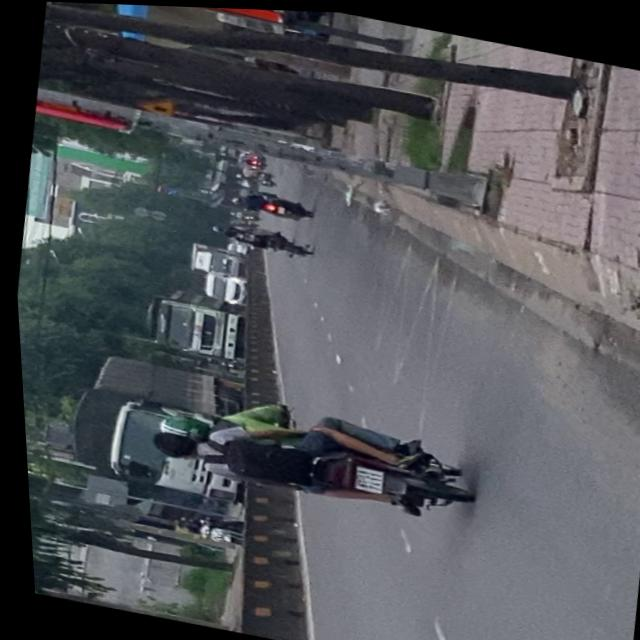helmet: (152, 411, 205, 439)
licenseplate: (137, 379, 477, 529)
motorcyclist: (141, 426, 197, 462)
nohelmet: (348, 463, 379, 490)
